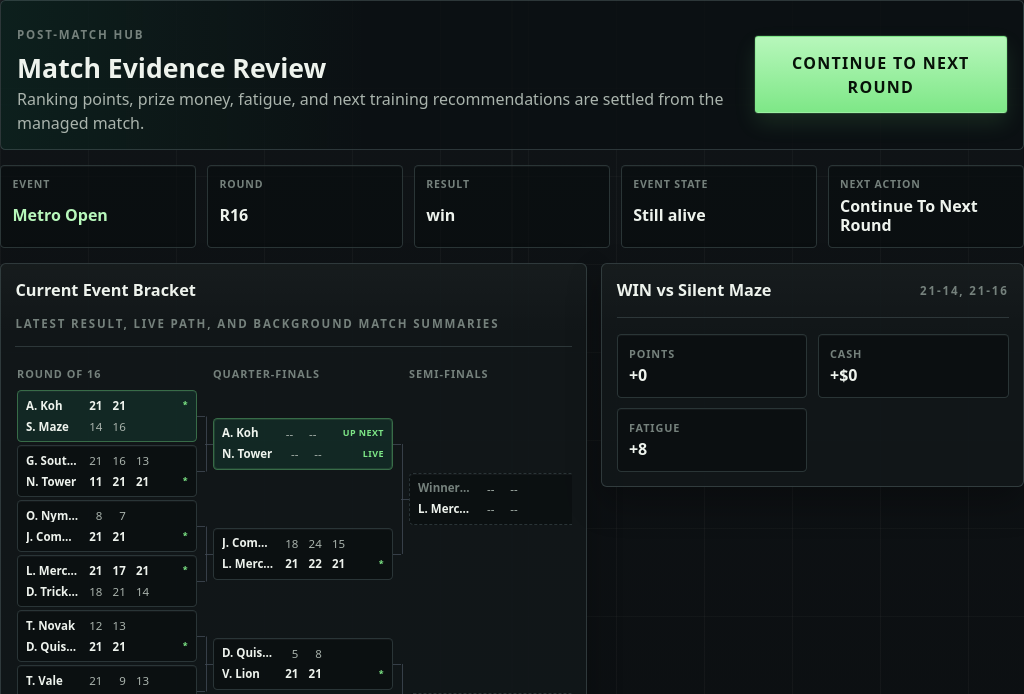
Test: career bracket placement › renders the updated tree in the career post-match hub while the event remains active
Expected: the heading "Current Event Bracket" is shown, [15,278,196,303]
Click the button "A. Koh 21 21 * S. Maze 14 16".
click(107, 416)  # box [17,390,197,442]
(page scrolled)
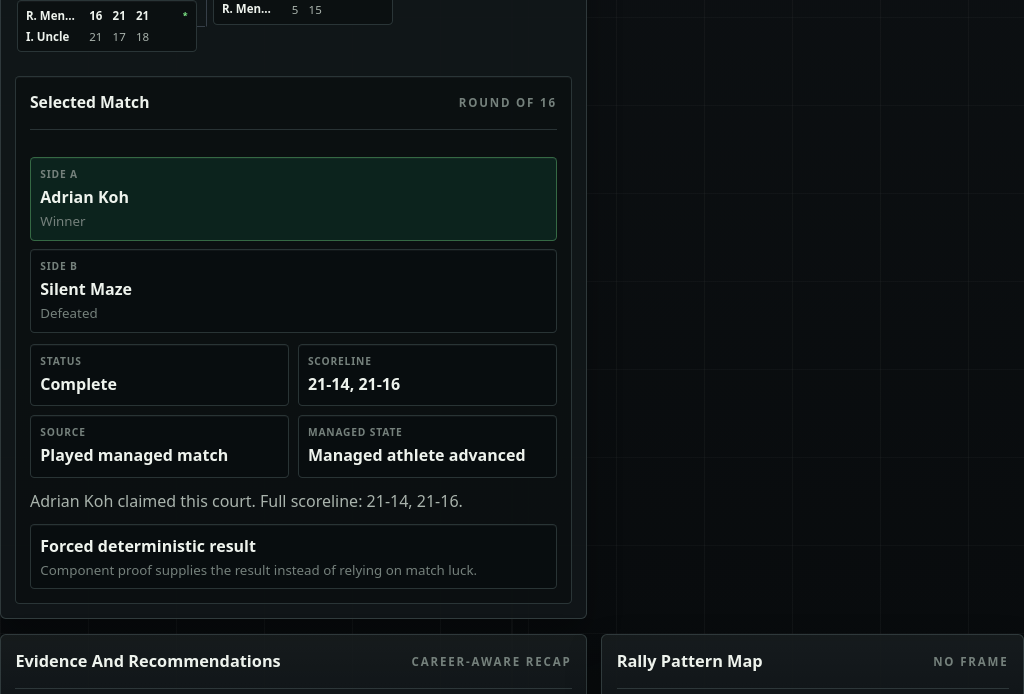
Expected: the text "21-14, 21-16" is shown, [308,373,400,395]
